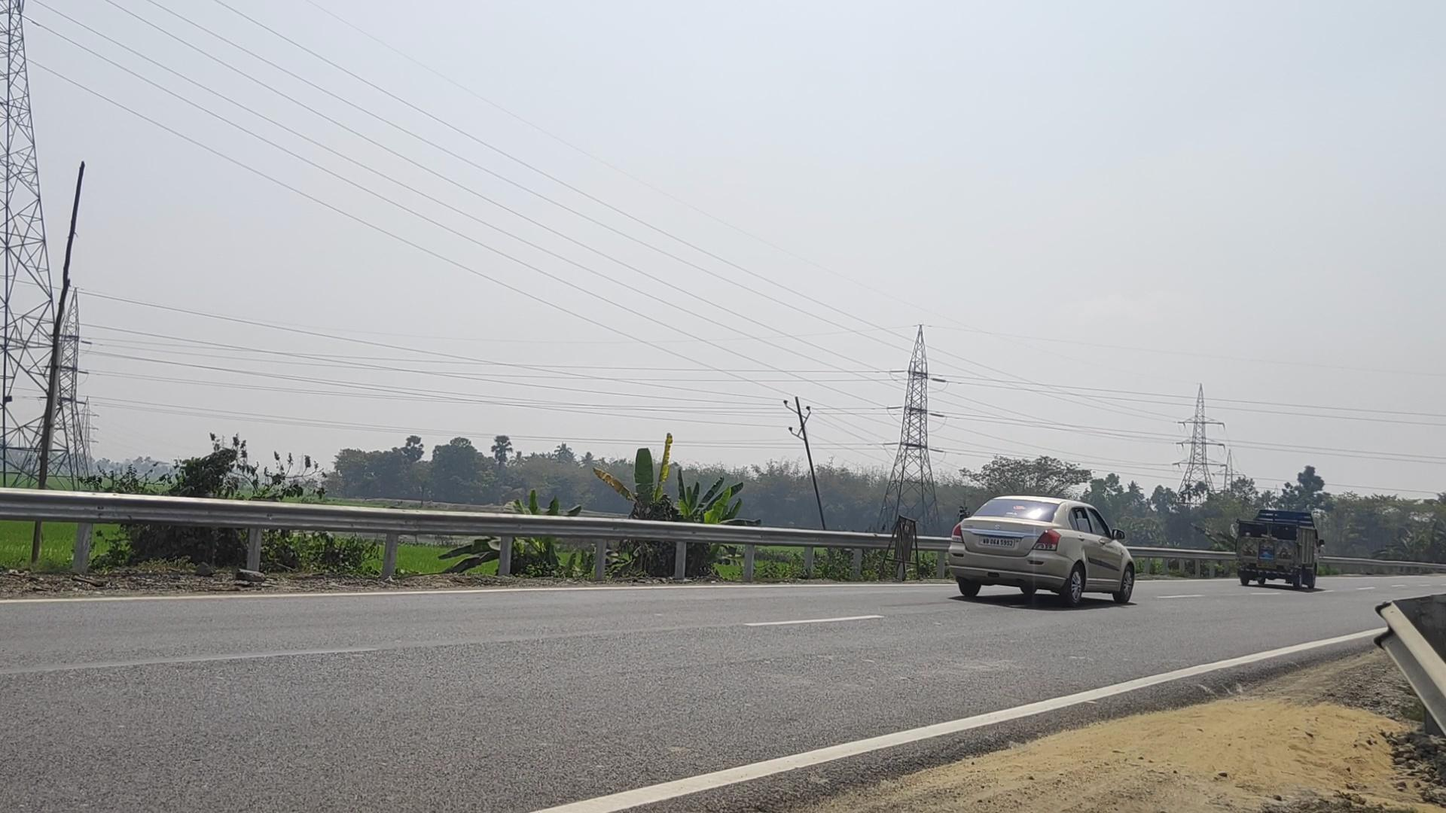car: (947, 495, 1135, 609)
van: (1236, 510, 1326, 591)
